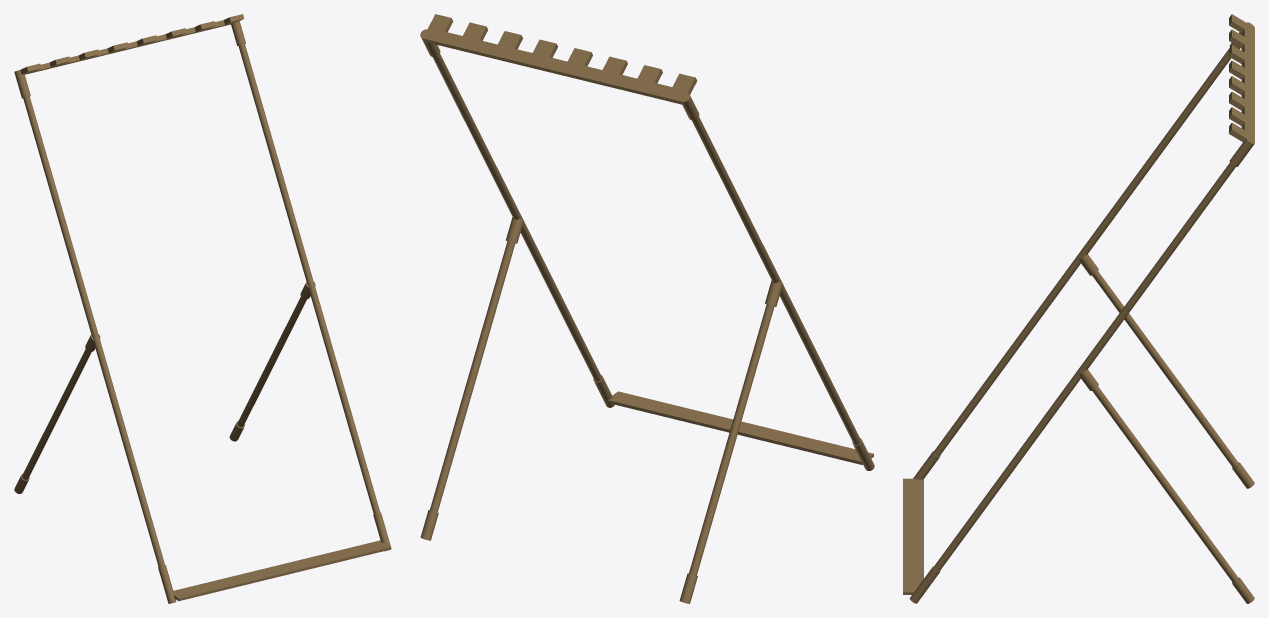
Rendered from 1089_弓立て.glb.
3 views of the same model, side by side, from view 1: azimuth 30°, elevation 25°; view 2: azimuth 150°, elevation 25°; view 3: azimuth 270°, elevation 25° (orthographic). The views are drawn at different scales.
Visible parts, largest first — view 1: yumitate; view 2: yumitate; view 3: yumitate.
Part boxes in pixels (box(x1,y1,x2,y2)): yumitate: box(14, 14, 391, 603); yumitate: box(420, 14, 874, 603); yumitate: box(903, 14, 1254, 603).
Size of the model in its own units: 0.642 by 1.18 by 0.7967.
